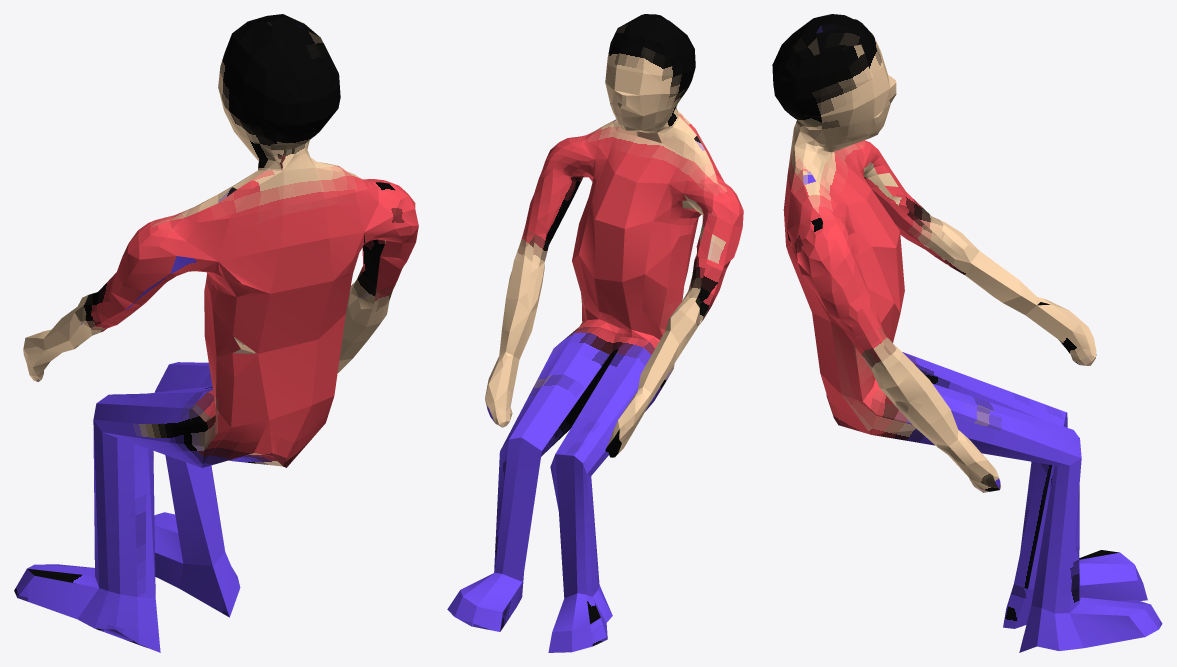
The model's file is sittingMan.glb.
3 views of the same model, side by side, from view 1: azimuth 30°, elevation 25°; view 2: azimuth 150°, elevation 25°; view 3: azimuth 270°, elevation 25° (orthographic). The views are drawn at different scales.
Visible parts, largest first — view 1: Sphere; view 2: Sphere; view 3: Sphere.
Part boxes in pixels (<box>): Sphere: <box>14,14,418,652</box>; Sphere: <box>447,14,743,652</box>; Sphere: <box>772,14,1162,652</box>.
Size of the model in its own units: 2.37 by 5.67 by 3.24.
1 material, 1 textured.
